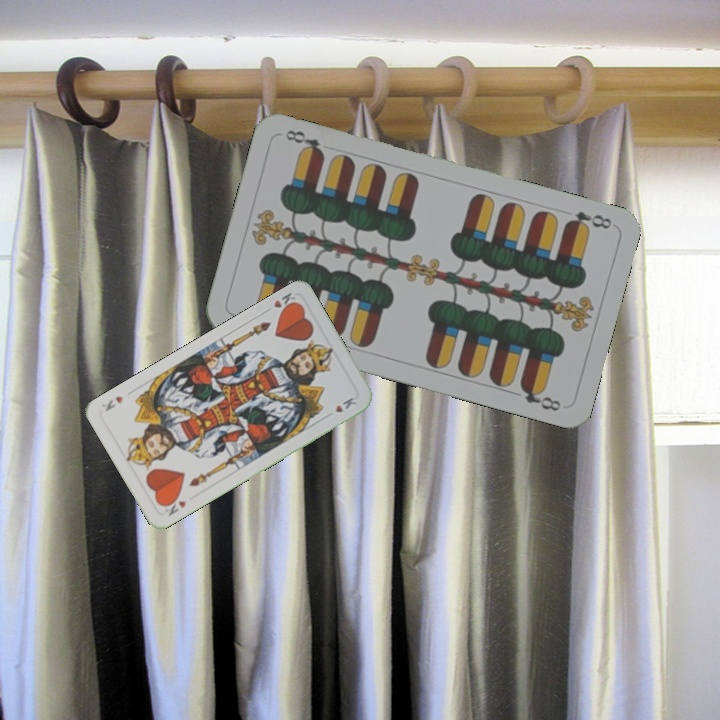E8: (561, 207, 615, 234)
HK: (260, 289, 301, 316), (158, 493, 189, 519)
